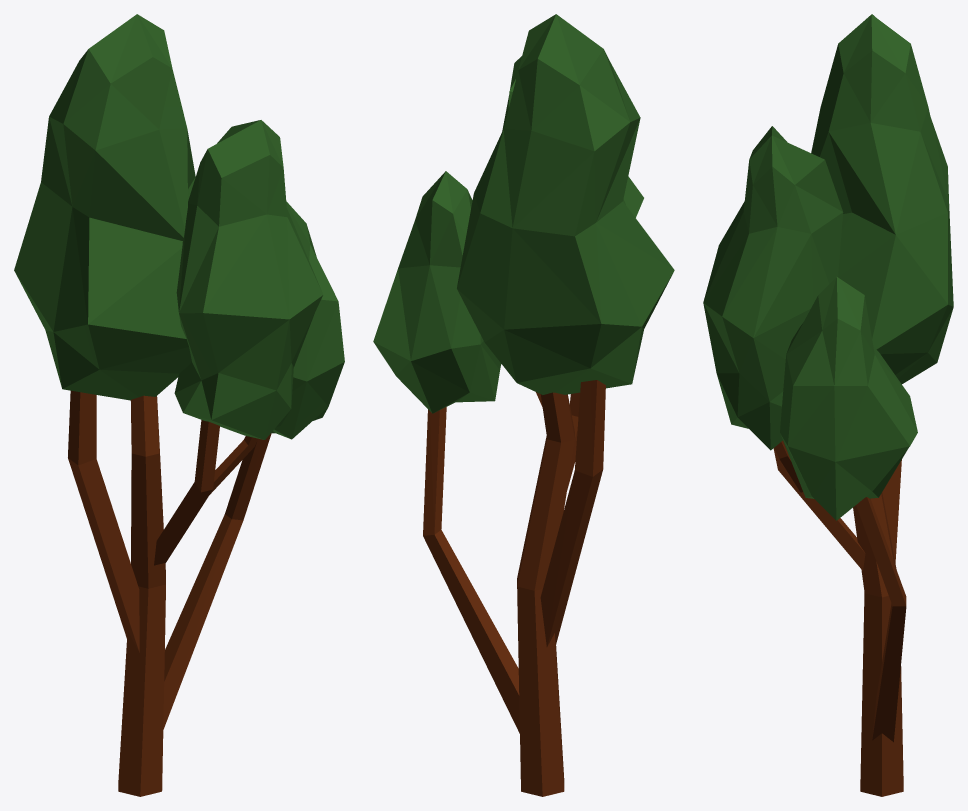
The model's file is TemperateTree_11.glb.
The picture shows the model from 3 angles, left to right: view 1: azimuth 30°, elevation 25°; view 2: azimuth 150°, elevation 25°; view 3: azimuth 270°, elevation 25°; orthographic projection.
Visible parts, largest first — view 1: Tree_temp_climate_011; view 2: Tree_temp_climate_011; view 3: Tree_temp_climate_011.
Part boxes in pixels (box(x1,y1,x2,y2)): Tree_temp_climate_011: box(14, 14, 344, 796); Tree_temp_climate_011: box(373, 14, 674, 796); Tree_temp_climate_011: box(703, 14, 953, 796).
Size of the model in its own units: 1.76 by 5.09 by 1.5.
Materials: 1 (1 with a texture image).
